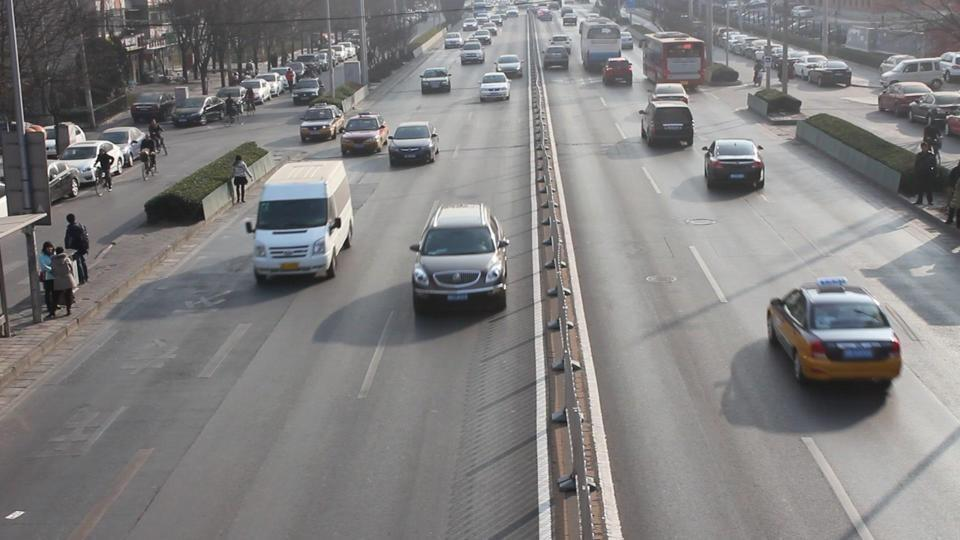car: (765, 276, 902, 385), (410, 196, 510, 314), (638, 84, 695, 147), (703, 138, 766, 192), (60, 141, 117, 185), (388, 121, 440, 167), (879, 57, 952, 89), (580, 18, 622, 72), (339, 113, 389, 156), (877, 82, 938, 116), (171, 95, 230, 128), (299, 103, 345, 143), (99, 127, 144, 167), (908, 92, 960, 125), (41, 122, 86, 159), (802, 57, 852, 89), (131, 89, 173, 125), (47, 160, 80, 202), (601, 57, 634, 88), (478, 72, 511, 102), (543, 36, 572, 70), (290, 77, 322, 107), (239, 78, 275, 104), (420, 67, 452, 95), (494, 52, 524, 77), (459, 41, 485, 64), (944, 114, 960, 136), (443, 33, 464, 49)
